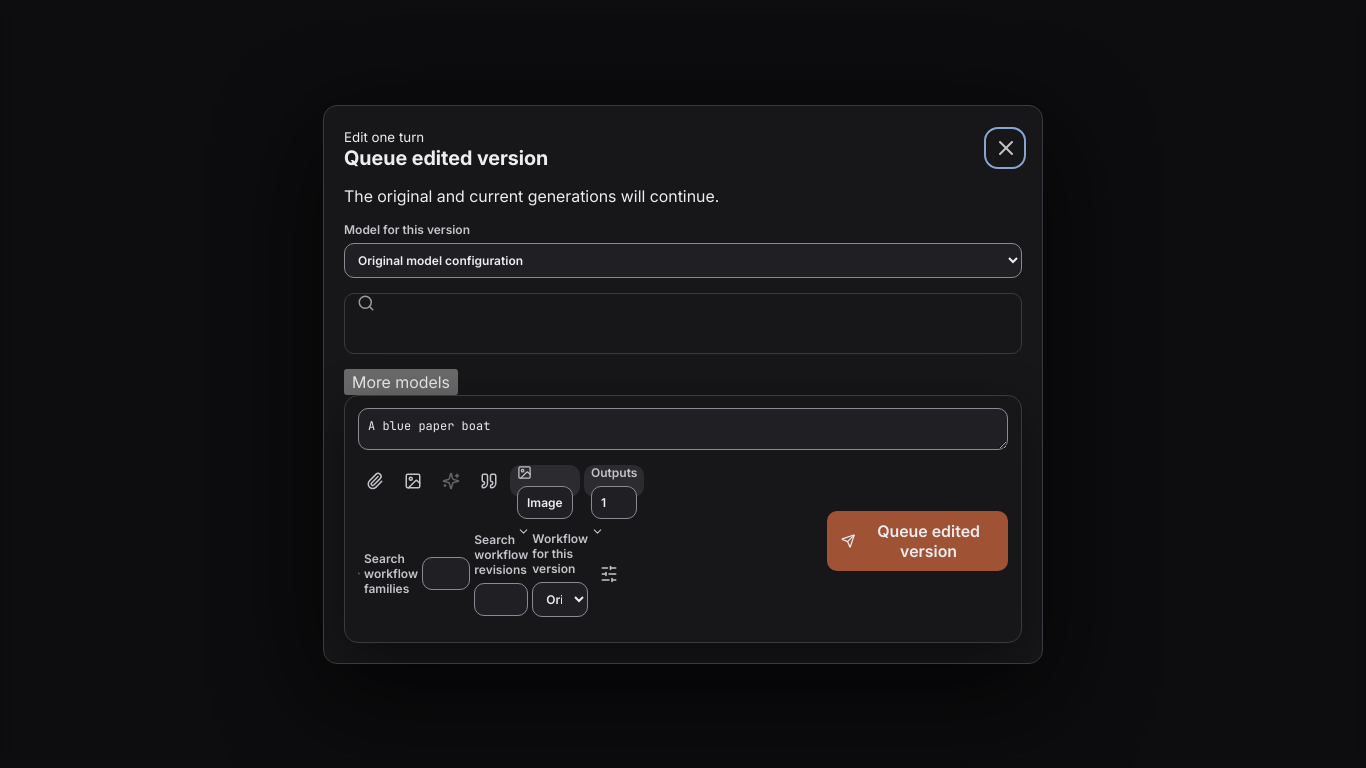
Test: pages and searches models without losing an off-page selection
Expected: the text box named "Message" is shown, [358, 408, 1008, 450]
Expected: the option "Model 50" is not shown
Click the button "More models" at (401, 382), box [344, 368, 458, 394]
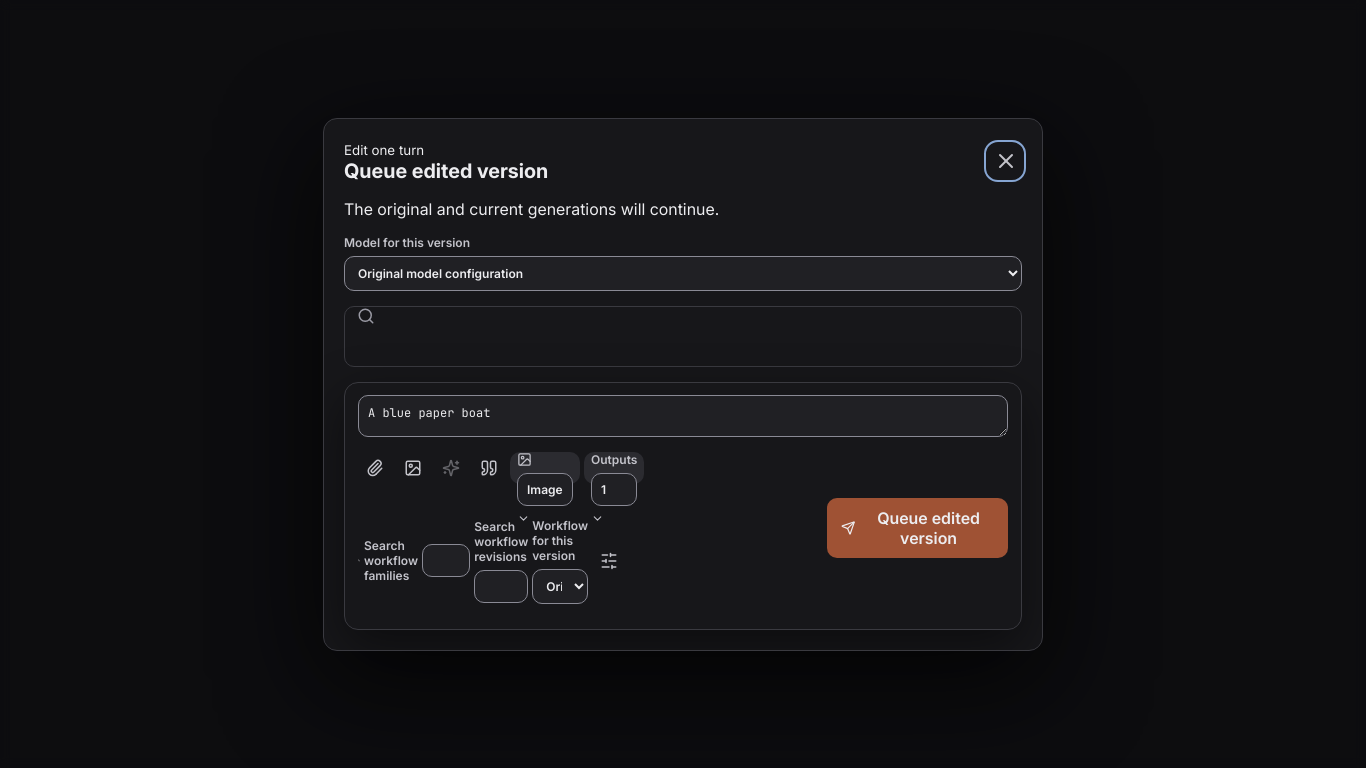
Select "Model 50" in the dropdown labelled "Model for this version" at (683, 273), box [344, 256, 1022, 290]
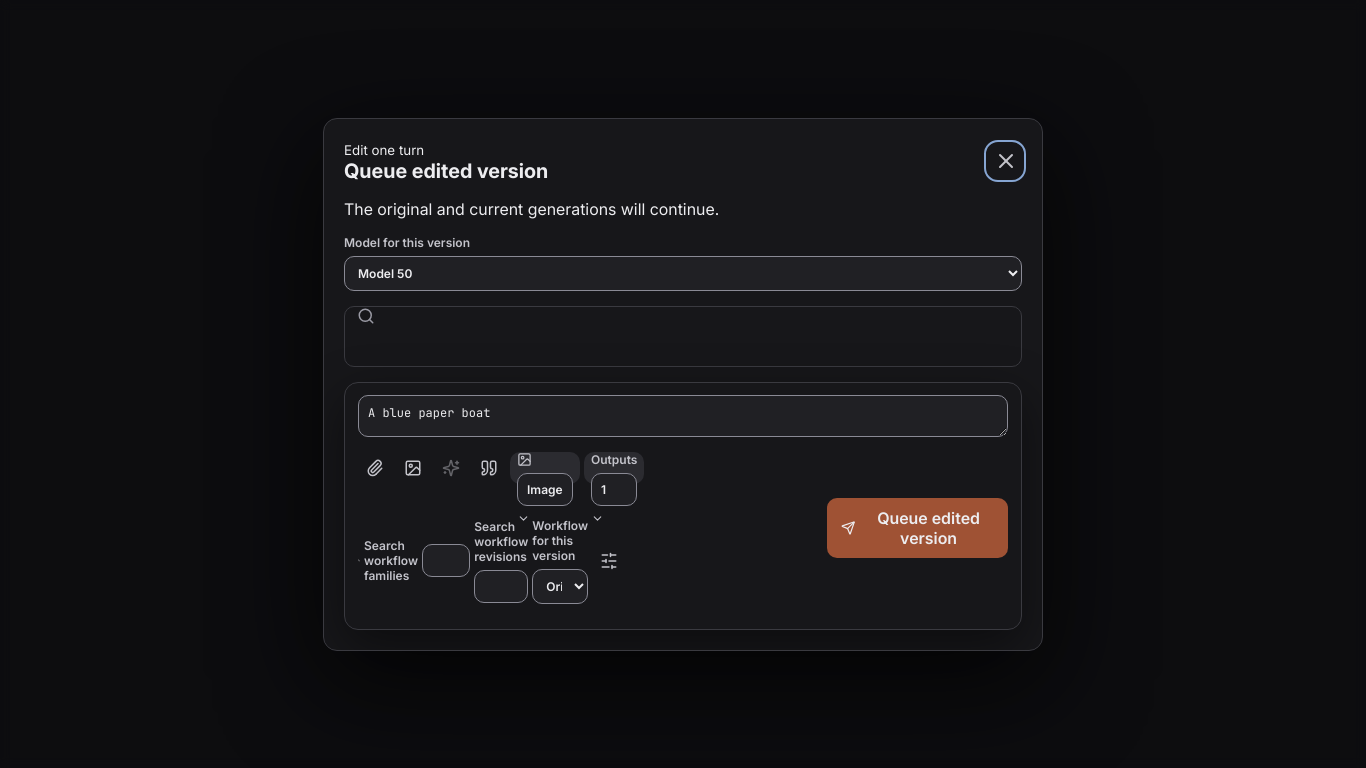
Type "Model 1" into the field named "Search models for this version" at (683, 348), box [357, 330, 1009, 366]
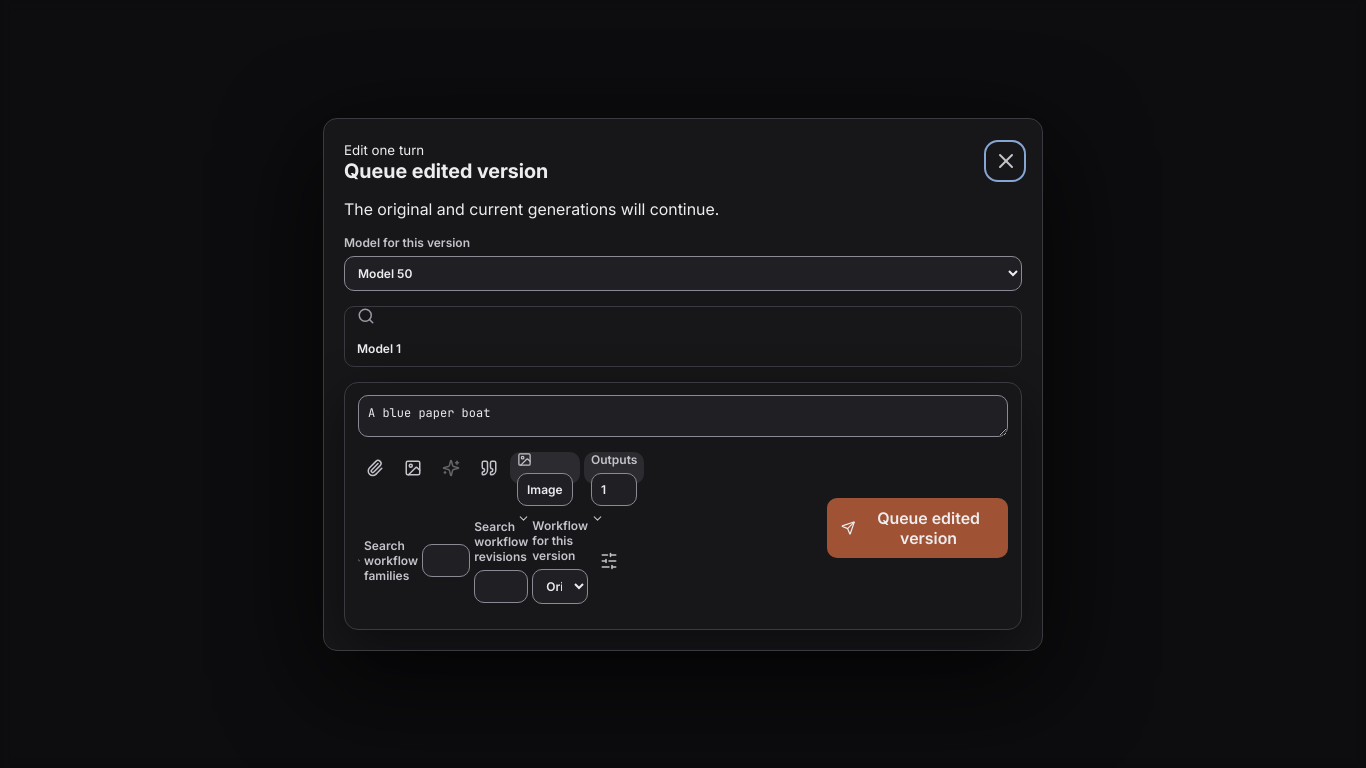
Click the button "Queue edited version" at (917, 528), box [827, 498, 1008, 558]
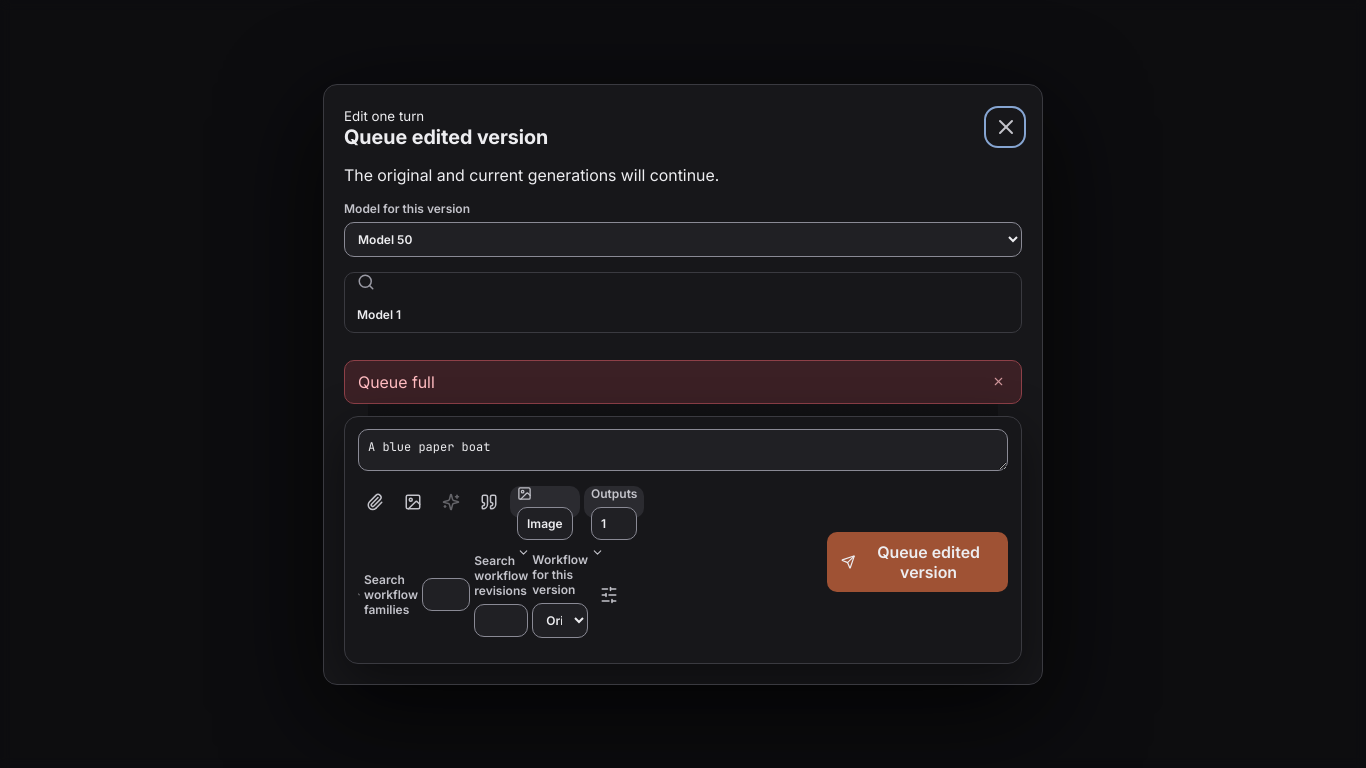
Expected: the text "Queue full" is shown, [358, 372, 435, 392]
